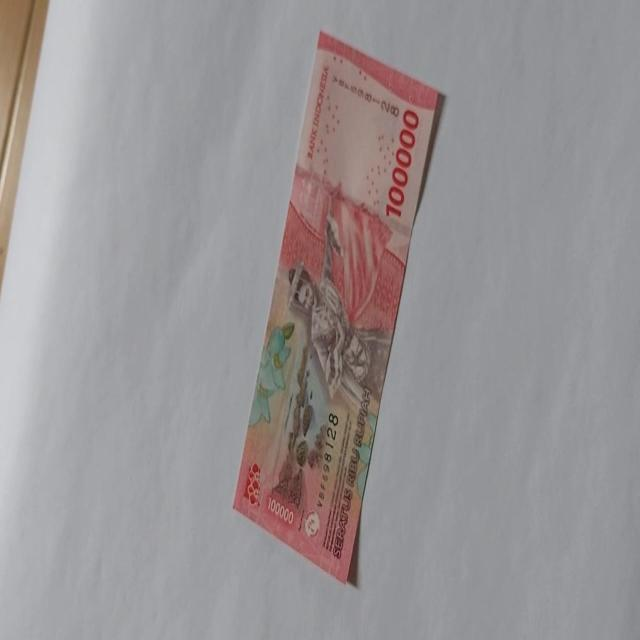Kertas: (384, 107, 420, 220)
